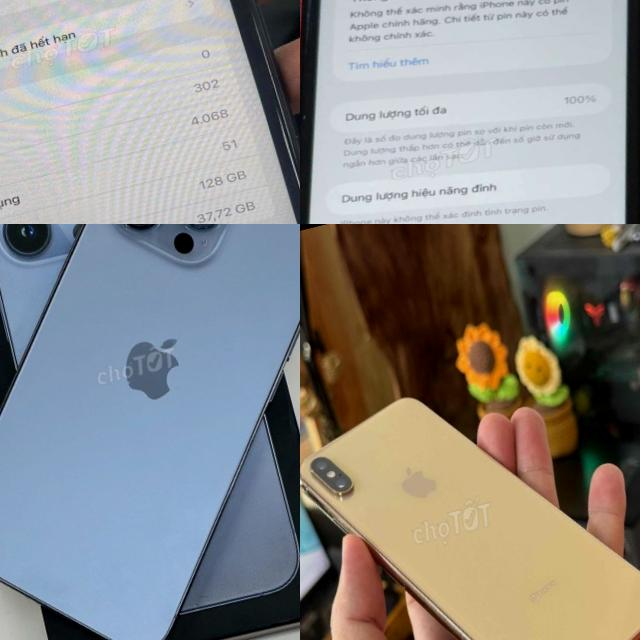gen_11: (300, 0, 640, 224), (0, 0, 300, 224)
gen_12_13: (0, 224, 300, 640)
gen_x_xs: (300, 398, 640, 640)
